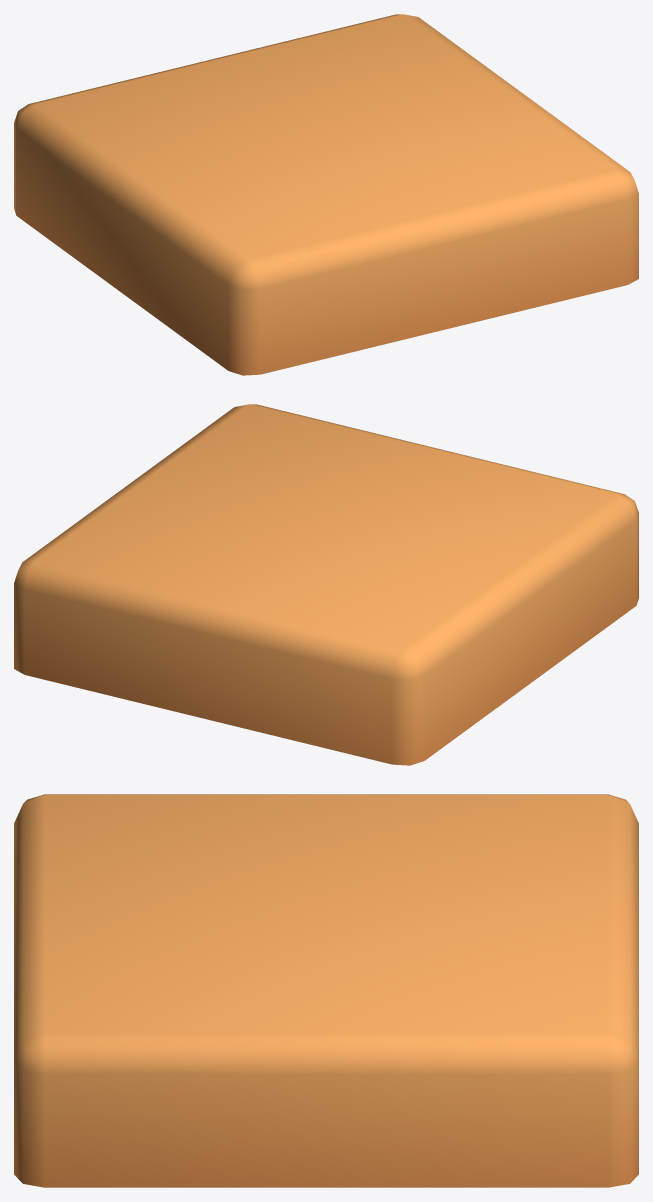
The model's file is 3D_Tile_Top_02.fbx.
3 renders of one model, top to bottom at view 1: azimuth 30°, elevation 25°; view 2: azimuth 150°, elevation 25°; view 3: azimuth 270°, elevation 25°, orthographic. The views are drawn at different scales.
Parts seen in each view (by area): view 1: 3D_Tile_Top_02; view 2: 3D_Tile_Top_02; view 3: 3D_Tile_Top_02.
Part boxes in pixels (<box>): 3D_Tile_Top_02: <box>14,14,638,375</box>; 3D_Tile_Top_02: <box>14,404,638,765</box>; 3D_Tile_Top_02: <box>14,794,638,1187</box>.
Size of the model in its own units: 200 by 50 by 200.
